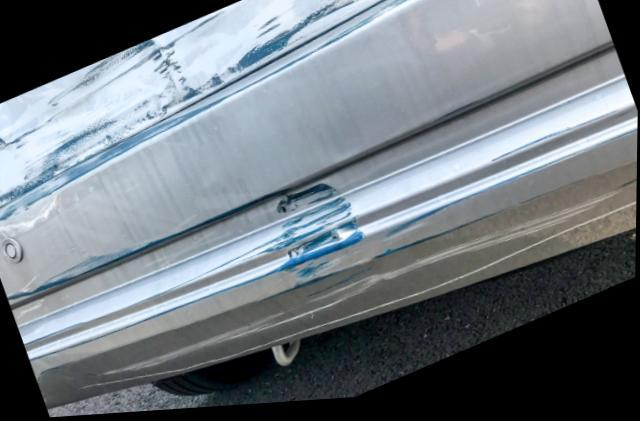scratch: (4, 163, 638, 414), (0, 0, 418, 222), (0, 0, 394, 205)
